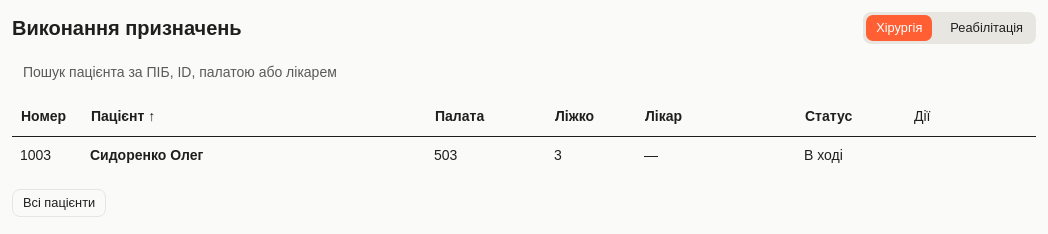
Scenario: NursePrescriptionPage › toggle splits surgery (19) and rehab (37) and persists the choice
Expected: the text "Сидоренко Олег" is shown, [90,146,203,162]
Expected: the text "Коваленко Олена" is not shown
Click the button "Реабілітація". click: click(987, 28)
box: [939,14,1034,42]
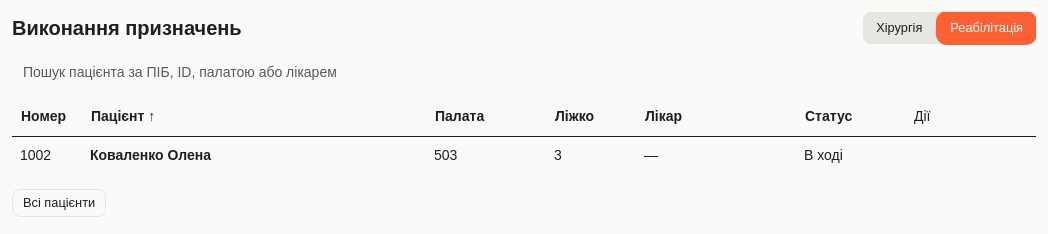
Result: the text "Коваленко Олена" is shown at [90,146,211,162]
Result: the text "Сидоренко Олег" is gone
